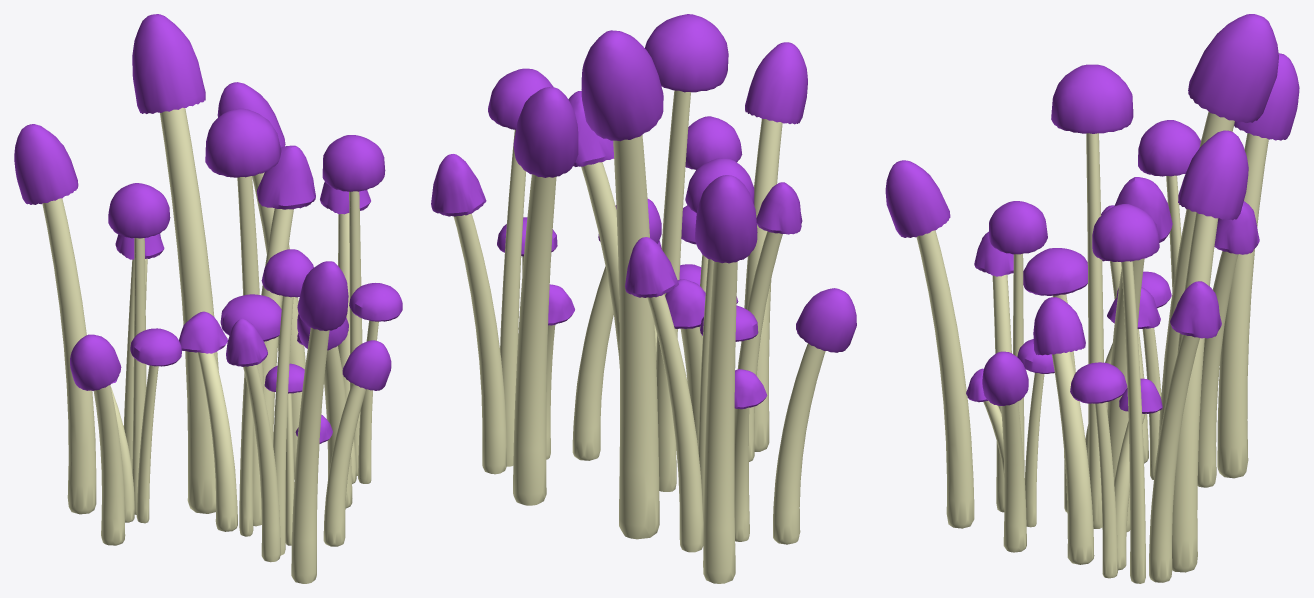
The model's file is Mushrooms_and_Flowers (1).fbx.
3 renders of one model, left to right at view 1: azimuth 30°, elevation 25°; view 2: azimuth 150°, elevation 25°; view 3: azimuth 270°, elevation 25°, orthographic. The views are drawn at different scales.
Parts seen in each view (by area): view 1: mushOne; view 2: mushOne; view 3: mushOne.
Boxes of the visible parts, x1,y1,x2,y2 form: mushOne: (14, 14, 402, 583); mushOne: (431, 14, 856, 583); mushOne: (885, 14, 1299, 583).
Size of the model in its own units: 2128 by 2871 by 2137.
